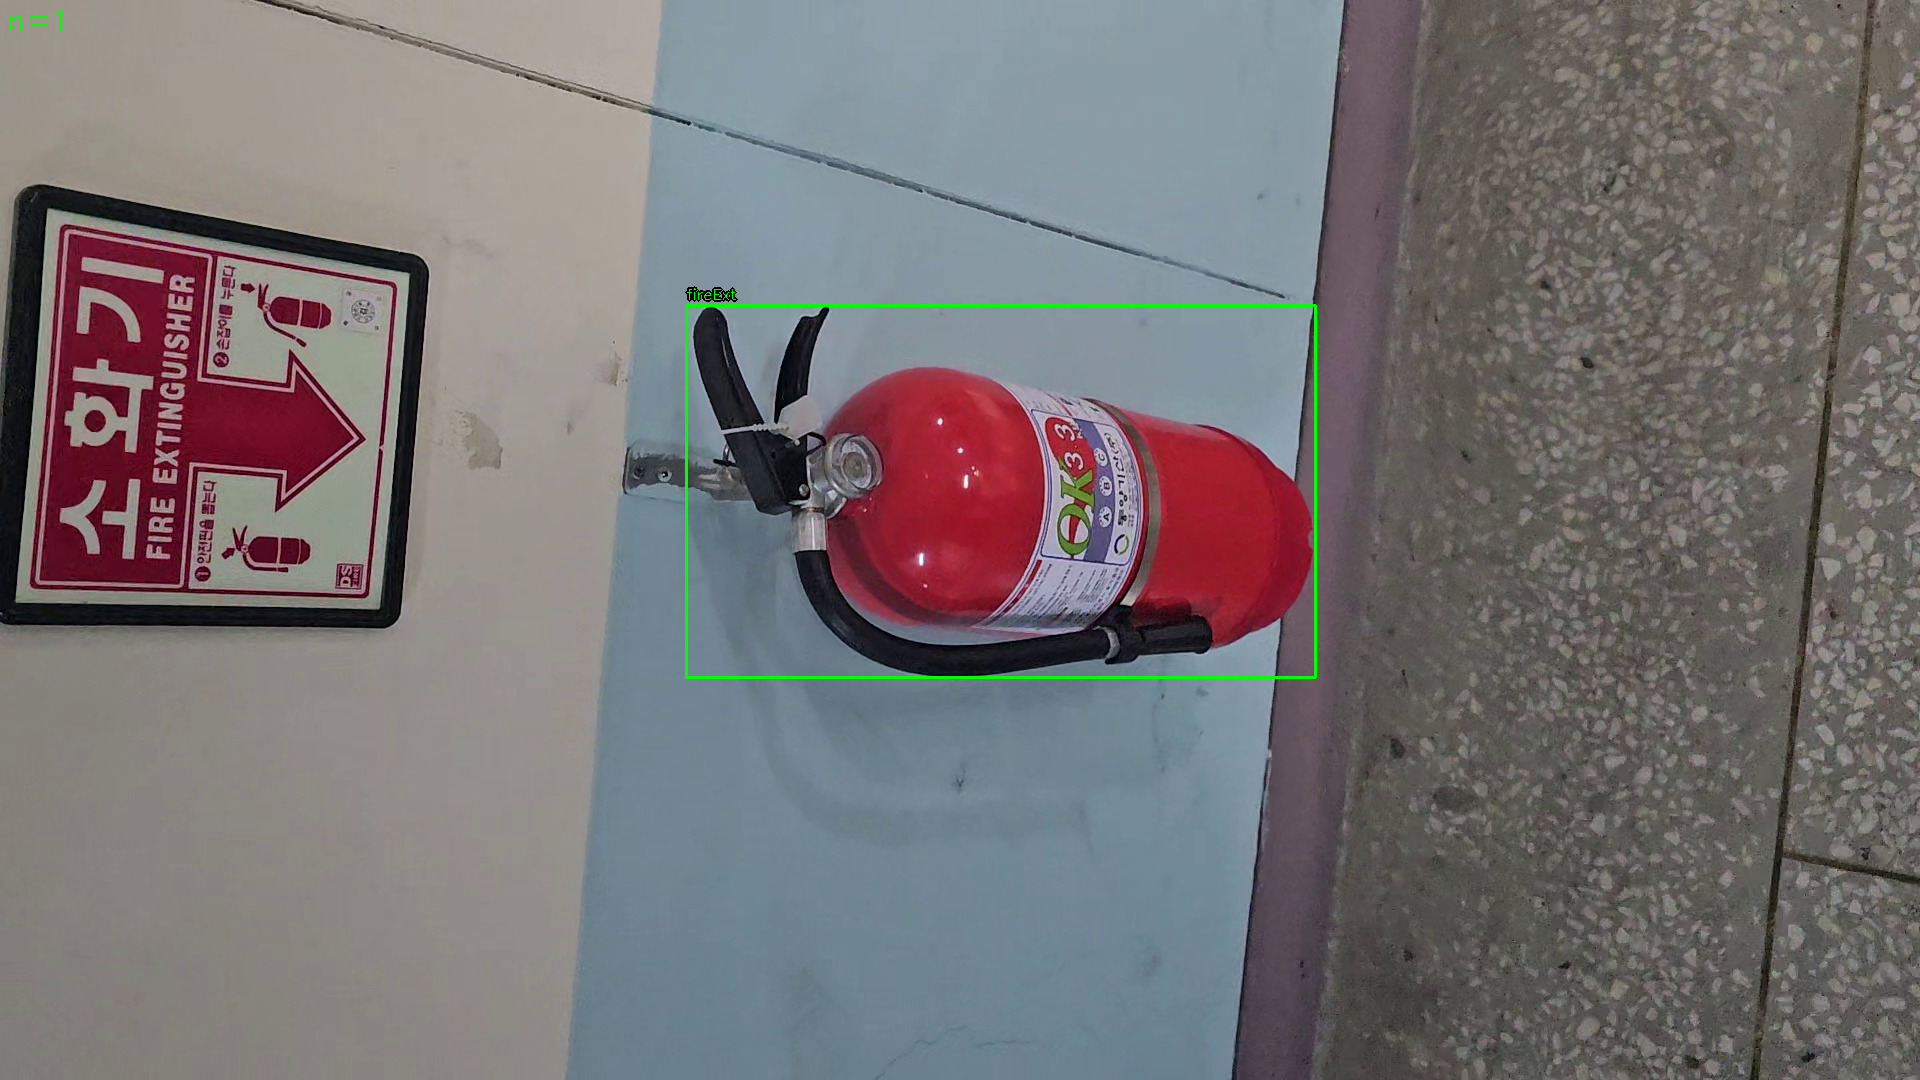lane: (686, 305, 1316, 678)
